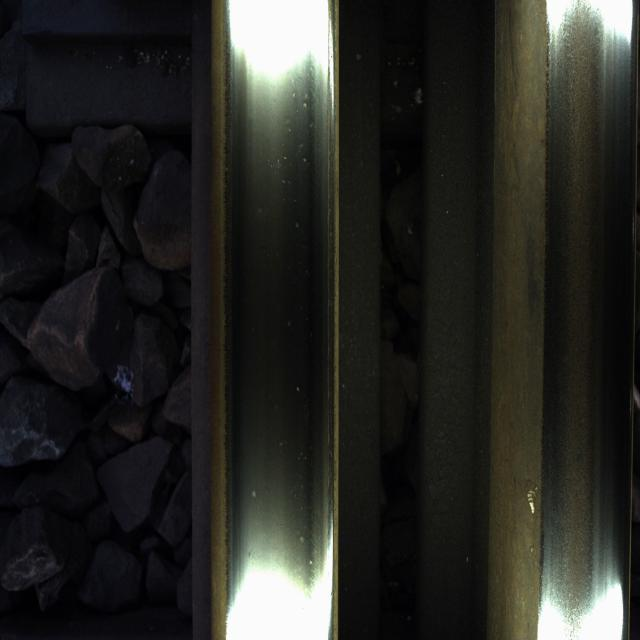break: (228, 31, 322, 570)
normal: (564, 11, 624, 540)
